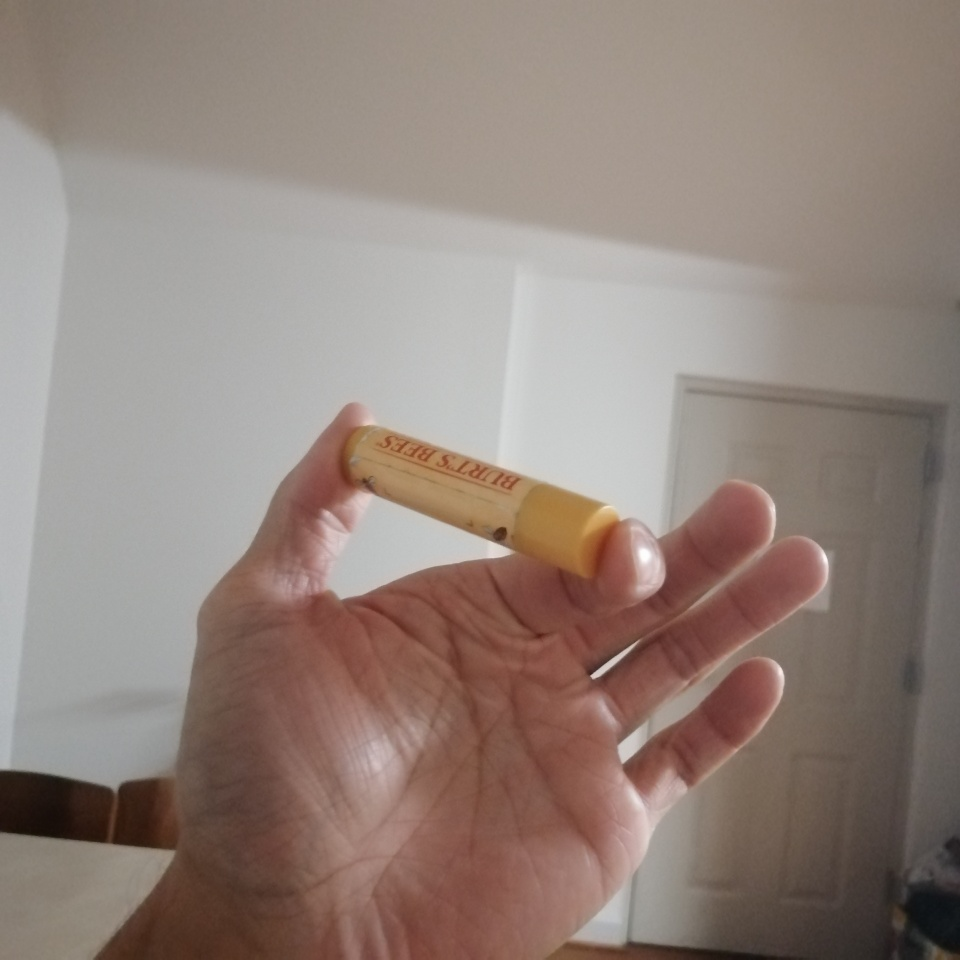chapstick: (342, 424, 621, 581)
